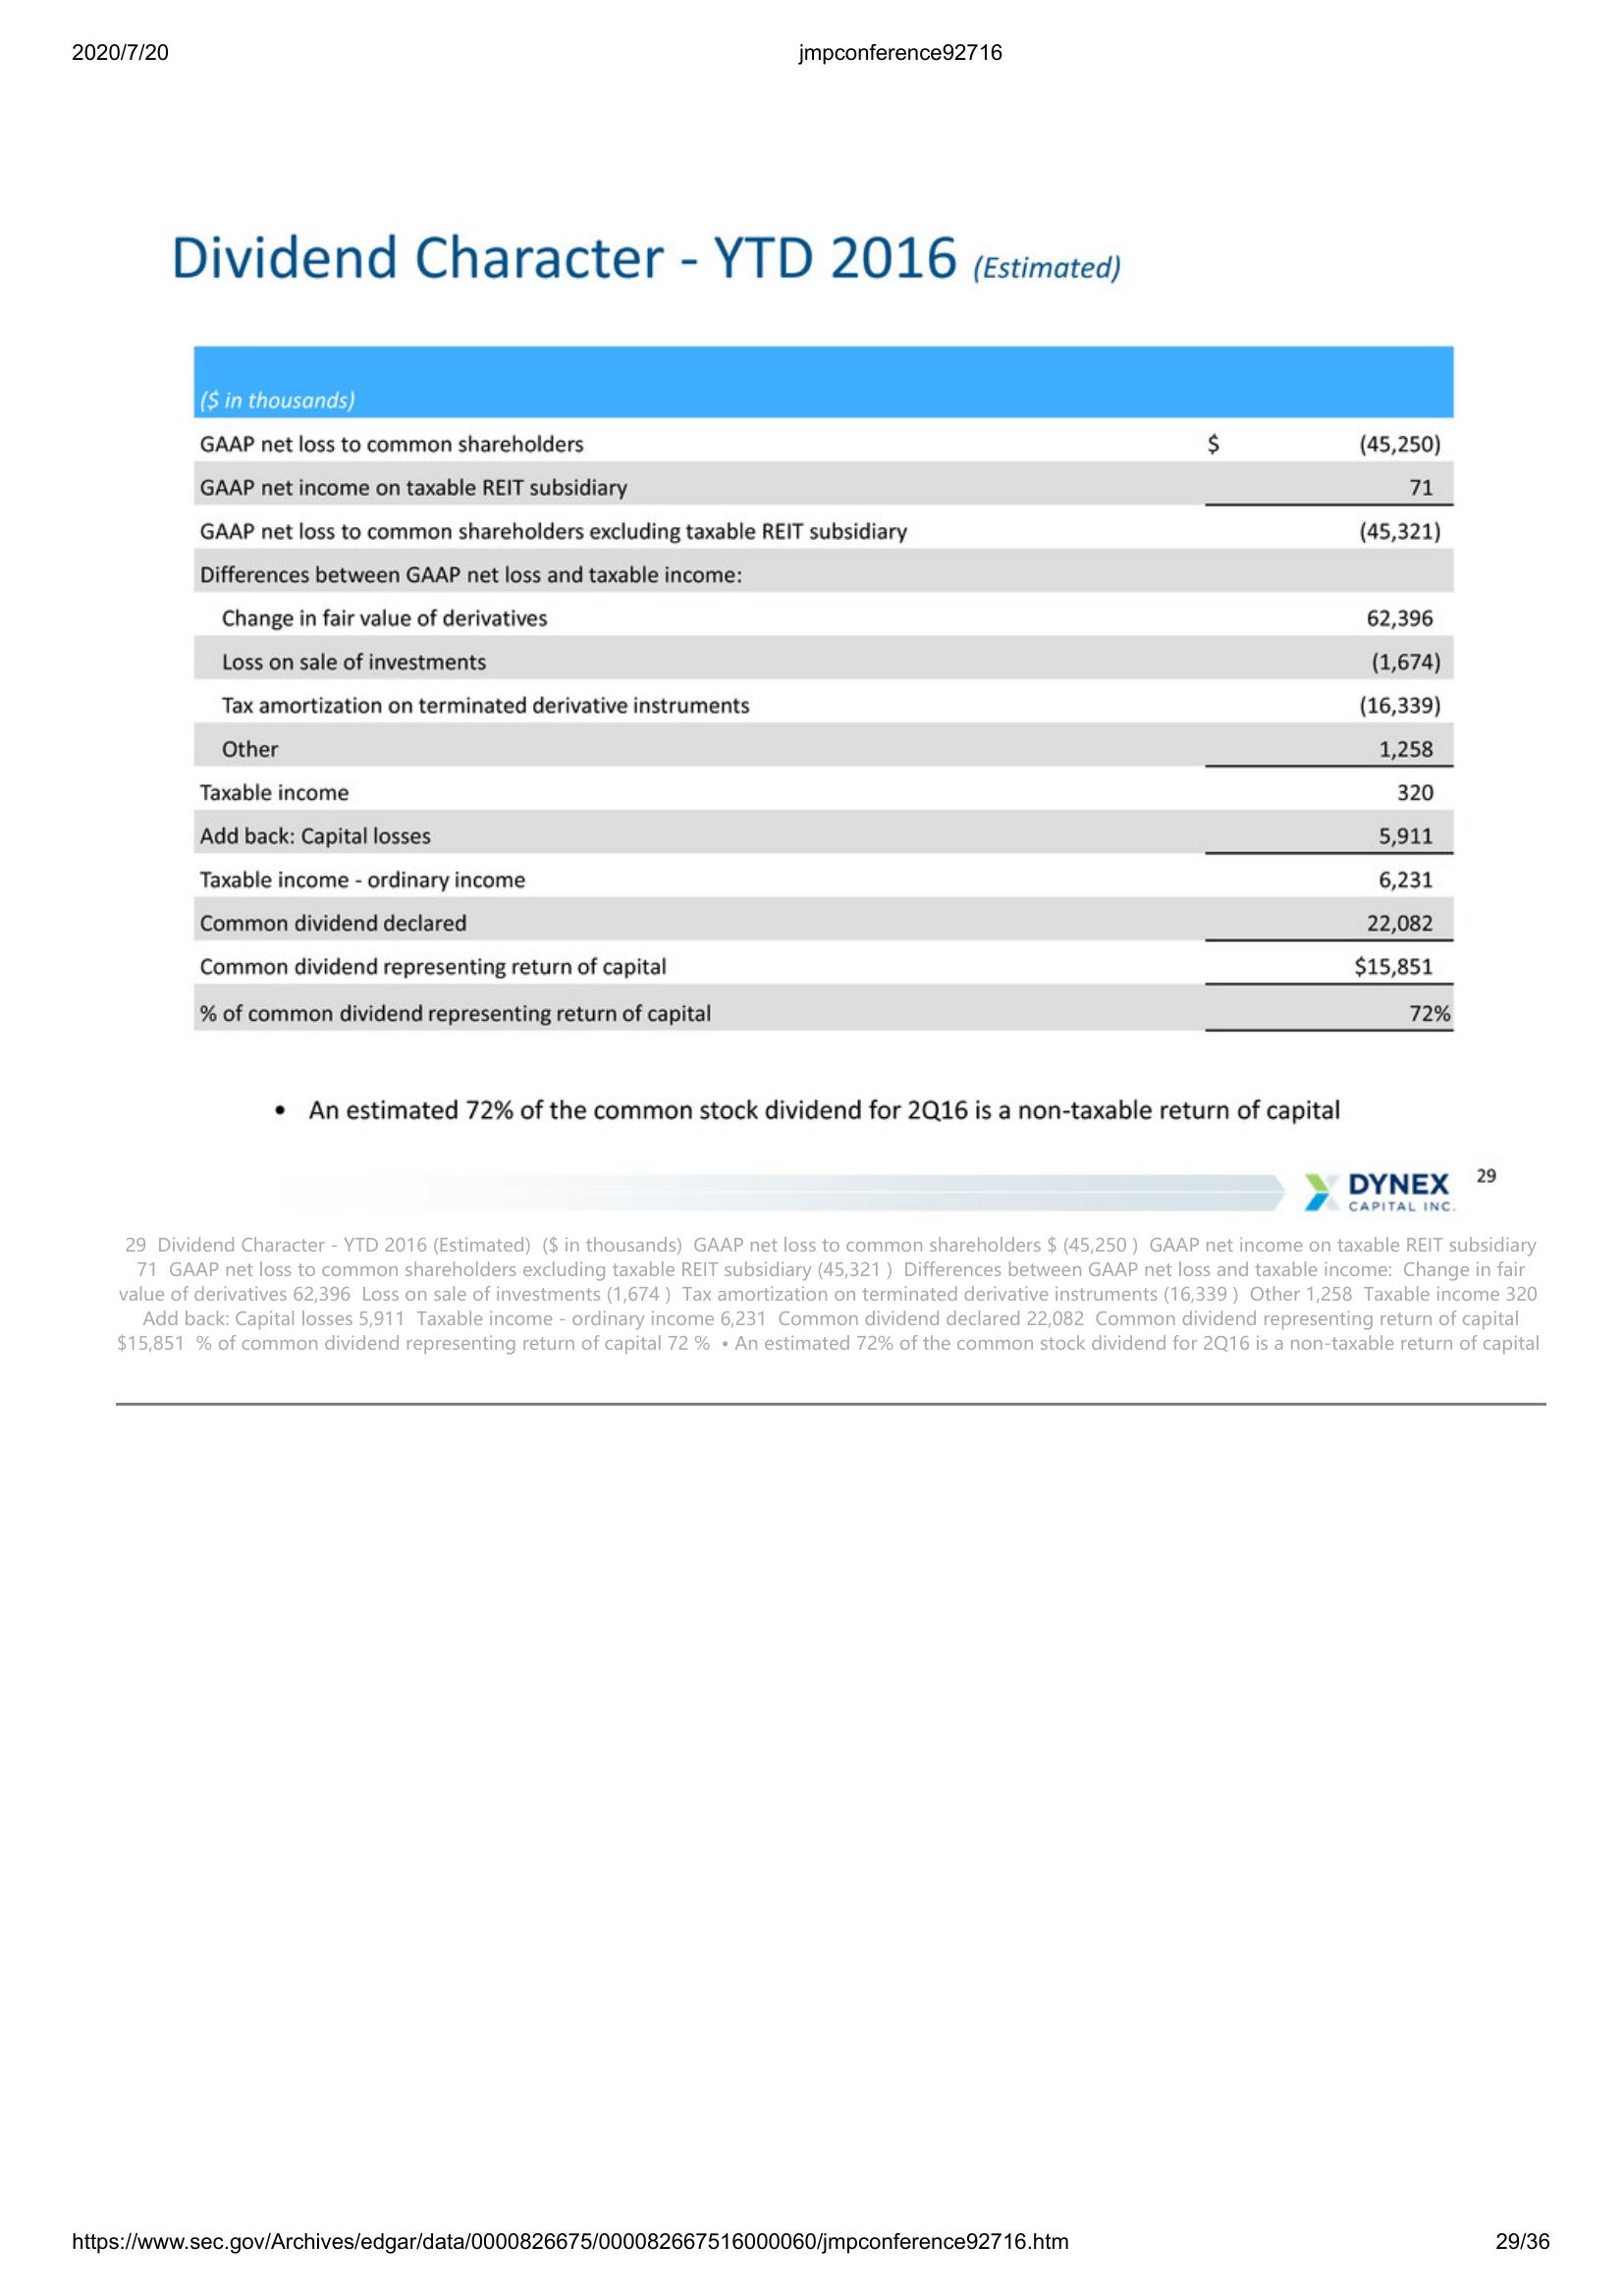table: (186, 339, 1463, 1041)
